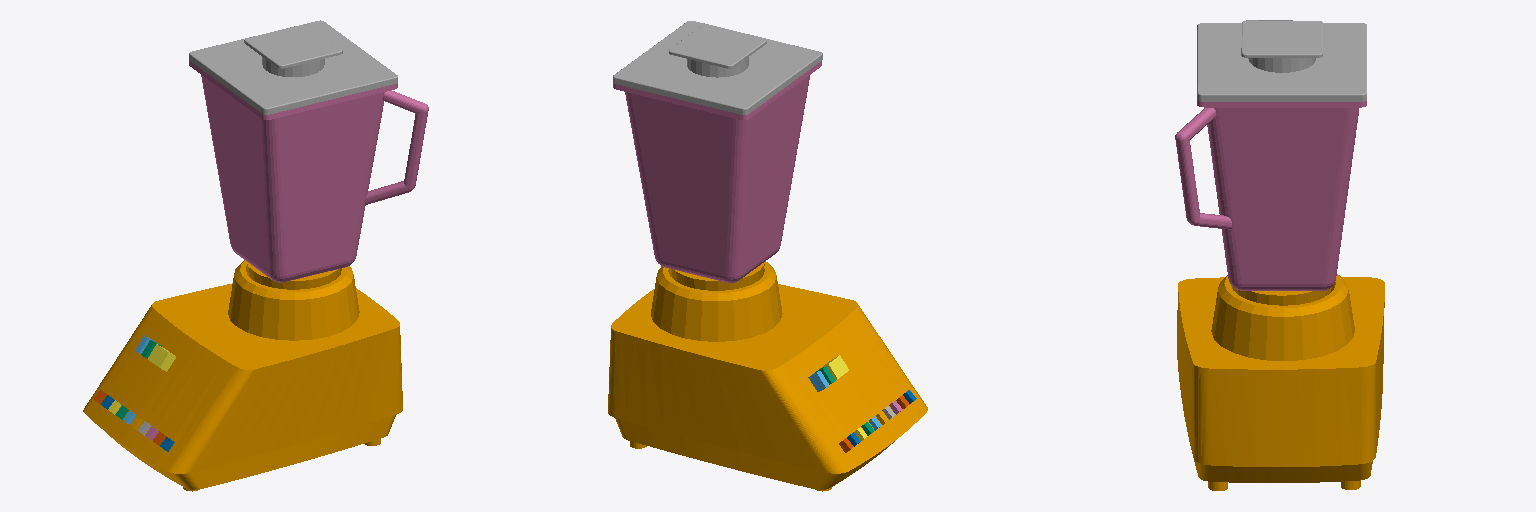
URDF robot description (partnet_77640ed4c495a1668f64d37593728c5a):
<?xml version="1.0" ?>
<robot name="partnet_77640ed4c495a1668f64d37593728c5a">
	<link name="base"/>
	<link name="link_0">
		<visual name="button-7">
			<origin xyz="0.08758425415615112 0.2599278907136432 -0.4961286367936355"/>
			<geometry>
				<mesh filename="textured_objs/original-2.obj"/>
			</geometry>
		</visual>
		<collision>
			<origin xyz="0.08758425415615112 0.2599278907136432 -0.4961286367936355"/>
			<geometry>
				<mesh filename="textured_objs/original-2.obj"/>
			</geometry>
		</collision>
	</link>
	<joint name="joint_0" type="prismatic">
		<origin xyz="-0.08758425415615112 -0.2599278907136432 0.4961286367936355"/>
		<axis xyz="-0.013884689554569651 -0.6059839900364795 -0.7953556558015045"/>
		<child link="link_0"/>
		<parent link="link_15"/>
		<limit lower="0" upper="0.02"/>
	</joint>
	<link name="link_1">
		<visual name="button-8">
			<origin xyz="0.08758425415615112 0.2599278907136432 -0.4961286367936355"/>
			<geometry>
				<mesh filename="textured_objs/original-4.obj"/>
			</geometry>
		</visual>
		<collision>
			<origin xyz="0.08758425415615112 0.2599278907136432 -0.4961286367936355"/>
			<geometry>
				<mesh filename="textured_objs/original-4.obj"/>
			</geometry>
		</collision>
	</link>
	<joint name="joint_1" type="prismatic">
		<origin xyz="-0.08758425415615112 -0.2599278907136432 0.4961286367936355"/>
		<axis xyz="-0.013884689554569651 -0.6059839900364795 -0.7953556558015045"/>
		<child link="link_1"/>
		<parent link="link_15"/>
		<limit lower="0" upper="0.02"/>
	</joint>
	<link name="link_2">
		<visual name="button-9">
			<origin xyz="0.08758425415615112 0.2599278907136432 -0.4961286367936355"/>
			<geometry>
				<mesh filename="textured_objs/original-3.obj"/>
			</geometry>
		</visual>
		<collision>
			<origin xyz="0.08758425415615112 0.2599278907136432 -0.4961286367936355"/>
			<geometry>
				<mesh filename="textured_objs/original-3.obj"/>
			</geometry>
		</collision>
	</link>
	<joint name="joint_2" type="prismatic">
		<origin xyz="-0.08758425415615112 -0.2599278907136432 0.4961286367936355"/>
		<axis xyz="-0.013884689554569651 -0.6059839900364795 -0.7953556558015045"/>
		<child link="link_2"/>
		<parent link="link_15"/>
		<limit lower="0" upper="0.02"/>
	</joint>
	<link name="link_3">
		<visual name="button-10">
			<origin xyz="-0.021112453323421487 0.4820759295051025 -0.6551641082096362"/>
			<geometry>
				<mesh filename="textured_objs/original-14.obj"/>
			</geometry>
		</visual>
		<collision>
			<origin xyz="-0.021112453323421487 0.4820759295051025 -0.6551641082096362"/>
			<geometry>
				<mesh filename="textured_objs/original-14.obj"/>
			</geometry>
		</collision>
	</link>
	<joint name="joint_3" type="prismatic">
		<origin xyz="0.021112453323421487 -0.4820759295051025 0.6551641082096362"/>
		<axis xyz="-0.012342309005736843 -0.7071072722029033 -0.7069985664809909"/>
		<child link="link_3"/>
		<parent link="link_15"/>
		<limit lower="0" upper="0.015"/>
	</joint>
	<link name="link_4">
		<visual name="button-11">
			<origin xyz="-0.021112453323421487 0.4820759295051025 -0.6551641082096362"/>
			<geometry>
				<mesh filename="textured_objs/original-11.obj"/>
			</geometry>
		</visual>
		<collision>
			<origin xyz="-0.021112453323421487 0.4820759295051025 -0.6551641082096362"/>
			<geometry>
				<mesh filename="textured_objs/original-11.obj"/>
			</geometry>
		</collision>
	</link>
	<joint name="joint_4" type="prismatic">
		<origin xyz="0.021112453323421487 -0.4820759295051025 0.6551641082096362"/>
		<axis xyz="-0.012342309005736843 -0.7071072722029033 -0.7069985664809909"/>
		<child link="link_4"/>
		<parent link="link_15"/>
		<limit lower="0" upper="0.015"/>
	</joint>
	<link name="link_5">
		<visual name="button-12">
			<origin xyz="-0.021112453323421487 0.4820759295051025 -0.6551641082096362"/>
			<geometry>
				<mesh filename="textured_objs/original-9.obj"/>
			</geometry>
		</visual>
		<collision>
			<origin xyz="-0.021112453323421487 0.4820759295051025 -0.6551641082096362"/>
			<geometry>
				<mesh filename="textured_objs/original-9.obj"/>
			</geometry>
		</collision>
	</link>
	<joint name="joint_5" type="prismatic">
		<origin xyz="0.021112453323421487 -0.4820759295051025 0.6551641082096362"/>
		<axis xyz="-0.012342309005736843 -0.7071072722029033 -0.7069985664809909"/>
		<child link="link_5"/>
		<parent link="link_15"/>
		<limit lower="0" upper="0.015"/>
	</joint>
	<link name="link_6">
		<visual name="button-14">
			<origin xyz="-0.021112453323421487 0.4820759295051025 -0.6551641082096362"/>
			<geometry>
				<mesh filename="textured_objs/original-15.obj"/>
			</geometry>
		</visual>
		<collision>
			<origin xyz="-0.021112453323421487 0.4820759295051025 -0.6551641082096362"/>
			<geometry>
				<mesh filename="textured_objs/original-15.obj"/>
			</geometry>
		</collision>
	</link>
	<joint name="joint_6" type="prismatic">
		<origin xyz="0.021112453323421487 -0.4820759295051025 0.6551641082096362"/>
		<axis xyz="-0.012342309005736843 -0.7071072722029033 -0.7069985664809909"/>
		<child link="link_6"/>
		<parent link="link_15"/>
		<limit lower="0" upper="0.015"/>
	</joint>
	<link name="link_7">
		<visual name="button-15">
			<origin xyz="-0.021112453323421487 0.4820759295051025 -0.6551641082096362"/>
			<geometry>
				<mesh filename="textured_objs/original-13.obj"/>
			</geometry>
		</visual>
		<collision>
			<origin xyz="-0.021112453323421487 0.4820759295051025 -0.6551641082096362"/>
			<geometry>
				<mesh filename="textured_objs/original-13.obj"/>
			</geometry>
		</collision>
	</link>
	<joint name="joint_7" type="prismatic">
		<origin xyz="0.021112453323421487 -0.4820759295051025 0.6551641082096362"/>
		<axis xyz="-0.012342309005736843 -0.7071072722029033 -0.7069985664809909"/>
		<child link="link_7"/>
		<parent link="link_15"/>
		<limit lower="0" upper="0.015"/>
	</joint>
	<link name="link_8">
		<visual name="button-16">
			<origin xyz="-0.021112453323421487 0.4820759295051025 -0.6551641082096362"/>
			<geometry>
				<mesh filename="textured_objs/original-10.obj"/>
			</geometry>
		</visual>
		<collision>
			<origin xyz="-0.021112453323421487 0.4820759295051025 -0.6551641082096362"/>
			<geometry>
				<mesh filename="textured_objs/original-10.obj"/>
			</geometry>
		</collision>
	</link>
	<joint name="joint_8" type="prismatic">
		<origin xyz="0.021112453323421487 -0.4820759295051025 0.6551641082096362"/>
		<axis xyz="-0.012342309005736843 -0.7071072722029033 -0.7069985664809909"/>
		<child link="link_8"/>
		<parent link="link_15"/>
		<limit lower="0" upper="0.015"/>
	</joint>
	<link name="link_9">
		<visual name="button-17">
			<origin xyz="-0.021112453323421487 0.4820759295051025 -0.6551641082096362"/>
			<geometry>
				<mesh filename="textured_objs/original-7.obj"/>
			</geometry>
		</visual>
		<collision>
			<origin xyz="-0.021112453323421487 0.4820759295051025 -0.6551641082096362"/>
			<geometry>
				<mesh filename="textured_objs/original-7.obj"/>
			</geometry>
		</collision>
	</link>
	<joint name="joint_9" type="prismatic">
		<origin xyz="0.021112453323421487 -0.4820759295051025 0.6551641082096362"/>
		<axis xyz="-0.012342309005736843 -0.7071072722029033 -0.7069985664809909"/>
		<child link="link_9"/>
		<parent link="link_15"/>
		<limit lower="0" upper="0.015"/>
	</joint>
	<link name="link_10">
		<visual name="button-18">
			<origin xyz="-0.021112453323421487 0.4820759295051025 -0.6551641082096362"/>
			<geometry>
				<mesh filename="textured_objs/original-12.obj"/>
			</geometry>
		</visual>
		<collision>
			<origin xyz="-0.021112453323421487 0.4820759295051025 -0.6551641082096362"/>
			<geometry>
				<mesh filename="textured_objs/original-12.obj"/>
			</geometry>
		</collision>
	</link>
	<joint name="joint_10" type="prismatic">
		<origin xyz="0.021112453323421487 -0.4820759295051025 0.6551641082096362"/>
		<axis xyz="-0.012342309005736843 -0.7071072722029033 -0.7069985664809909"/>
		<child link="link_10"/>
		<parent link="link_15"/>
		<limit lower="0" upper="0.015"/>
	</joint>
	<link name="link_11">
		<visual name="button-19">
			<origin xyz="-0.021112453323421487 0.4820759295051025 -0.6551641082096362"/>
			<geometry>
				<mesh filename="textured_objs/original-8.obj"/>
			</geometry>
		</visual>
		<collision>
			<origin xyz="-0.021112453323421487 0.4820759295051025 -0.6551641082096362"/>
			<geometry>
				<mesh filename="textured_objs/original-8.obj"/>
			</geometry>
		</collision>
	</link>
	<joint name="joint_11" type="prismatic">
		<origin xyz="0.021112453323421487 -0.4820759295051025 0.6551641082096362"/>
		<axis xyz="-0.012342309005736843 -0.7071072722029033 -0.7069985664809909"/>
		<child link="link_11"/>
		<parent link="link_15"/>
		<limit lower="0" upper="0.015"/>
	</joint>
	<link name="link_12">
		<visual name="button-20">
			<origin xyz="-0.021112453323421487 0.4820759295051025 -0.6551641082096362"/>
			<geometry>
				<mesh filename="textured_objs/original-6.obj"/>
			</geometry>
		</visual>
		<collision>
			<origin xyz="-0.021112453323421487 0.4820759295051025 -0.6551641082096362"/>
			<geometry>
				<mesh filename="textured_objs/original-6.obj"/>
			</geometry>
		</collision>
	</link>
	<joint name="joint_12" type="prismatic">
		<origin xyz="0.021112453323421487 -0.4820759295051025 0.6551641082096362"/>
		<axis xyz="-0.012342309005736843 -0.7071072722029033 -0.7069985664809909"/>
		<child link="link_12"/>
		<parent link="link_15"/>
		<limit lower="0" upper="0.015"/>
	</joint>
	<link name="link_13">
		<visual name="container-21">
			<origin xyz="0 0 0"/>
			<geometry>
				<mesh filename="textured_objs/original-22.obj"/>
			</geometry>
		</visual>
		<visual name="container-21">
			<origin xyz="0 0 0"/>
			<geometry>
				<mesh filename="textured_objs/original-21.obj"/>
			</geometry>
		</visual>
		<collision>
			<origin xyz="0 0 0"/>
			<geometry>
				<mesh filename="textured_objs/original-22.obj"/>
			</geometry>
		</collision>
		<collision>
			<origin xyz="0 0 0"/>
			<geometry>
				<mesh filename="textured_objs/original-21.obj"/>
			</geometry>
		</collision>
	</link>
	<joint name="joint_13" type="prismatic">
		<origin xyz="0 0 0"/>
		<axis xyz="0 1 0"/>
		<child link="link_13"/>
		<parent link="link_15"/>
		<limit lower="0" upper="0.01"/>
	</joint>
	<link name="link_14">
		<visual name="lid-22">
			<origin xyz="0 0 0"/>
			<geometry>
				<mesh filename="textured_objs/original-18.obj"/>
			</geometry>
		</visual>
		<visual name="lid-22">
			<origin xyz="0 0 0"/>
			<geometry>
				<mesh filename="textured_objs/original-19.obj"/>
			</geometry>
		</visual>
		<collision>
			<origin xyz="0 0 0"/>
			<geometry>
				<mesh filename="textured_objs/original-18.obj"/>
			</geometry>
		</collision>
		<collision>
			<origin xyz="0 0 0"/>
			<geometry>
				<mesh filename="textured_objs/original-19.obj"/>
			</geometry>
		</collision>
	</link>
	<joint name="joint_14" type="prismatic">
		<origin xyz="0 0 0"/>
		<axis xyz="0 1 0"/>
		<child link="link_14"/>
		<parent link="link_13"/>
		<limit lower="0" upper="0.01"/>
	</joint>
	<link name="link_15">
		<visual name="base_body-23">
			<origin xyz="0 0 0"/>
			<geometry>
				<mesh filename="textured_objs/original-16.obj"/>
			</geometry>
		</visual>
		<visual name="base_body-23">
			<origin xyz="0 0 0"/>
			<geometry>
				<mesh filename="textured_objs/original-17.obj"/>
			</geometry>
		</visual>
		<collision>
			<origin xyz="0 0 0"/>
			<geometry>
				<mesh filename="textured_objs/original-16.obj"/>
			</geometry>
		</collision>
		<collision>
			<origin xyz="0 0 0"/>
			<geometry>
				<mesh filename="textured_objs/original-17.obj"/>
			</geometry>
		</collision>
	</link>
	<joint name="joint_15" type="fixed">
		<origin rpy="1.570796326794897 0 -1.570796326794897" xyz="0 0 0"/>
		<child link="link_15"/>
		<parent link="base"/>
	</joint>
</robot>

--- What the picture shows (computed from the rendered views, not written in the file) ---
The picture shows the robot from 3 angles, left to right: view 1: azimuth 30°, elevation 25°; view 2: azimuth 150°, elevation 25°; view 3: azimuth 270°, elevation 25°; orthographic projection.
Model partnet_77640ed4c495a1668f64d37593728c5a with 17 links and 16 joints (15 prismatic, 1 fixed), rooted at base, posed all joints at 0.
Links seen in each view (by area): view 1: link_15, link_13, link_14; view 2: link_15, link_13, link_14; view 3: link_15, link_13, link_14.
Link boxes in pixels (x1,y1,x2,y2): link_15: [83, 260, 402, 491]; link_13: [189, 60, 428, 282]; link_14: [189, 20, 397, 114]; link_15: [608, 261, 927, 491]; link_13: [613, 61, 821, 282]; link_14: [613, 21, 822, 114]; link_15: [1177, 274, 1384, 490]; link_13: [1175, 100, 1366, 290]; link_14: [1197, 20, 1366, 101].
Size in the robot's own frame: 1.19 by 0.7525 by 1.68 metres.
Meshes: 19 distinct files referenced, 19 mesh visuals loaded (19 OBJ).
